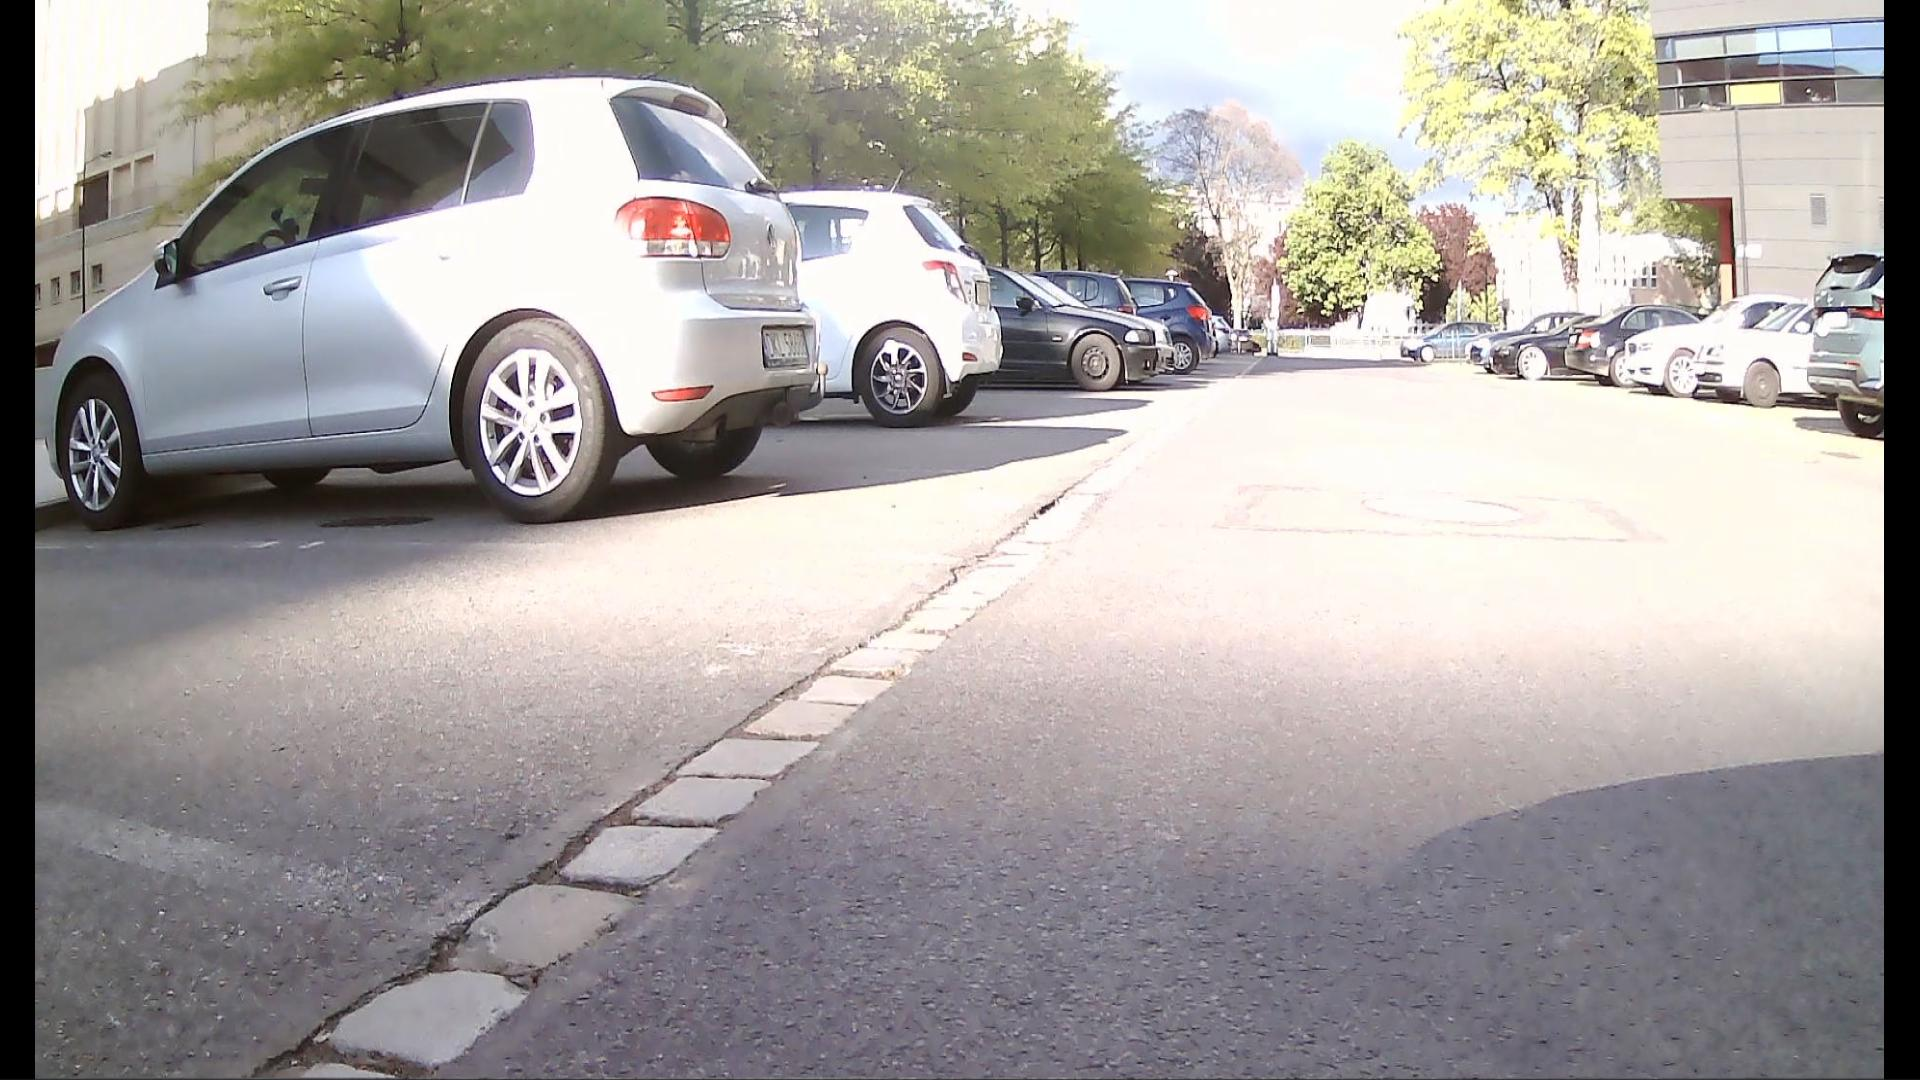car: (37, 16, 828, 566)
